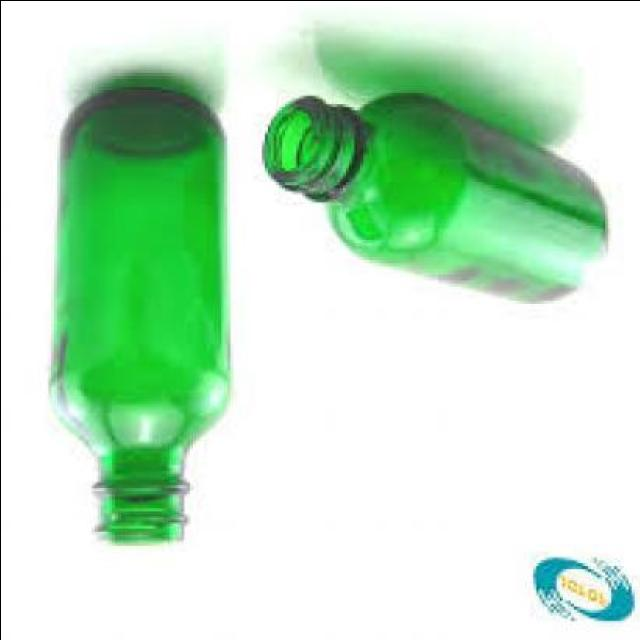kaca: (48, 89, 225, 548), (261, 93, 607, 304)
